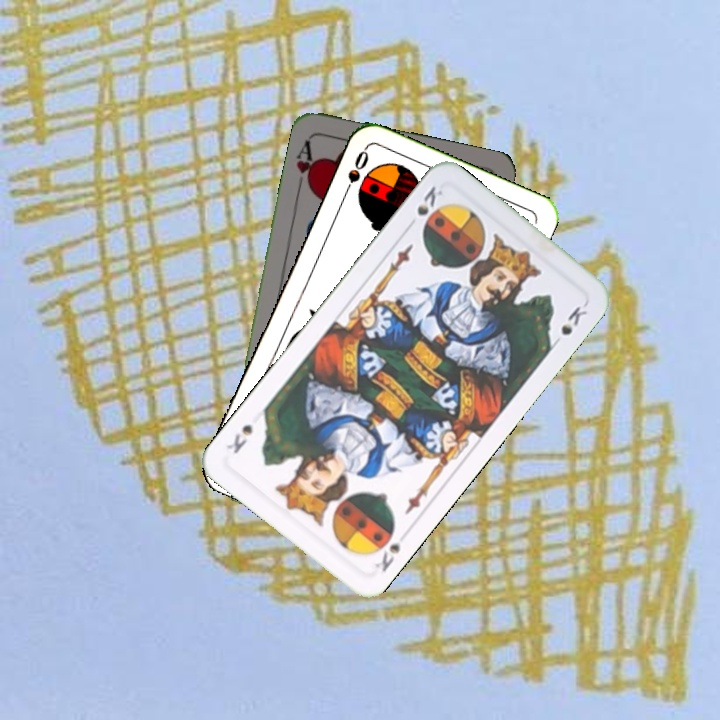HA: (292, 136, 320, 194)
SK: (402, 181, 446, 232), (370, 539, 403, 575)
SO: (338, 145, 372, 201)
